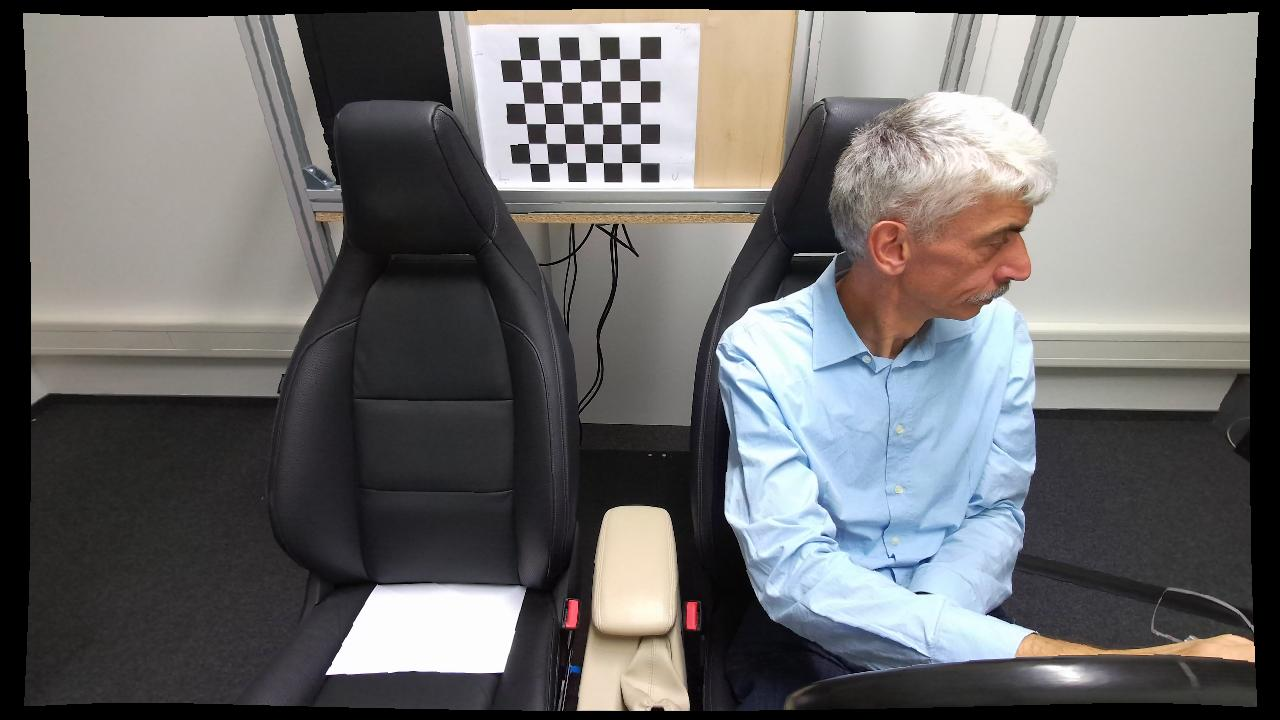Distracted: (706, 88, 1066, 712)
